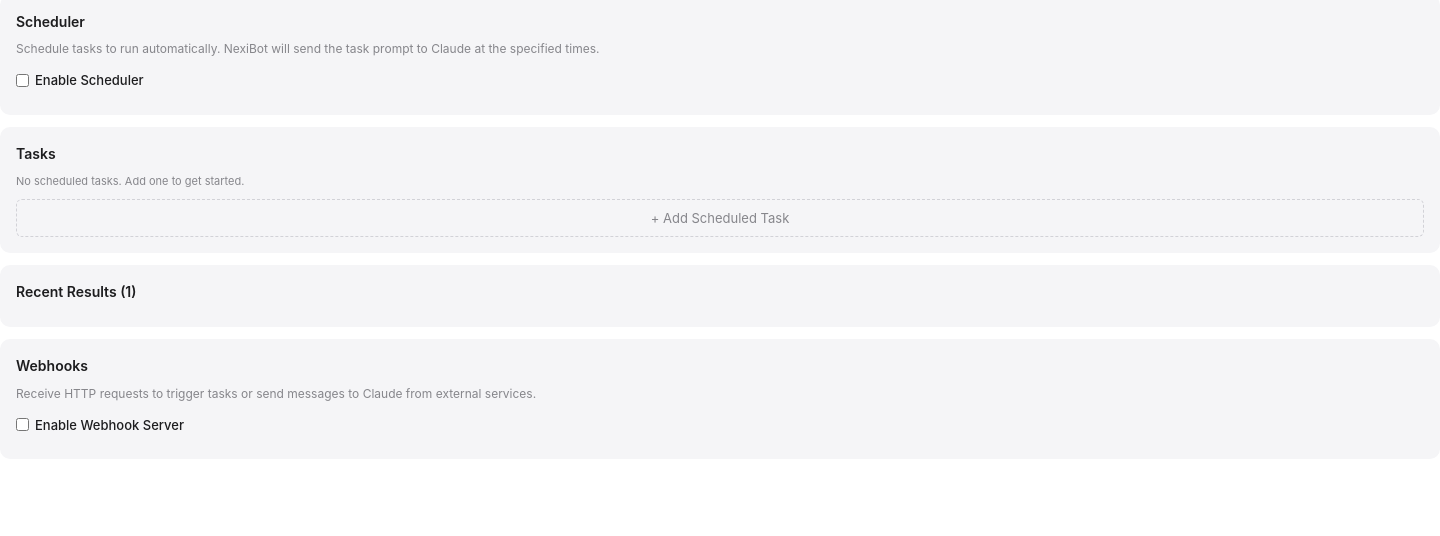
Test: Scheduler results › shows results section when schedulerResults has items and heading is clicked
Click to expand
Click the heading "Recent Results (1)" at (76, 292), box [16,283,136,300]
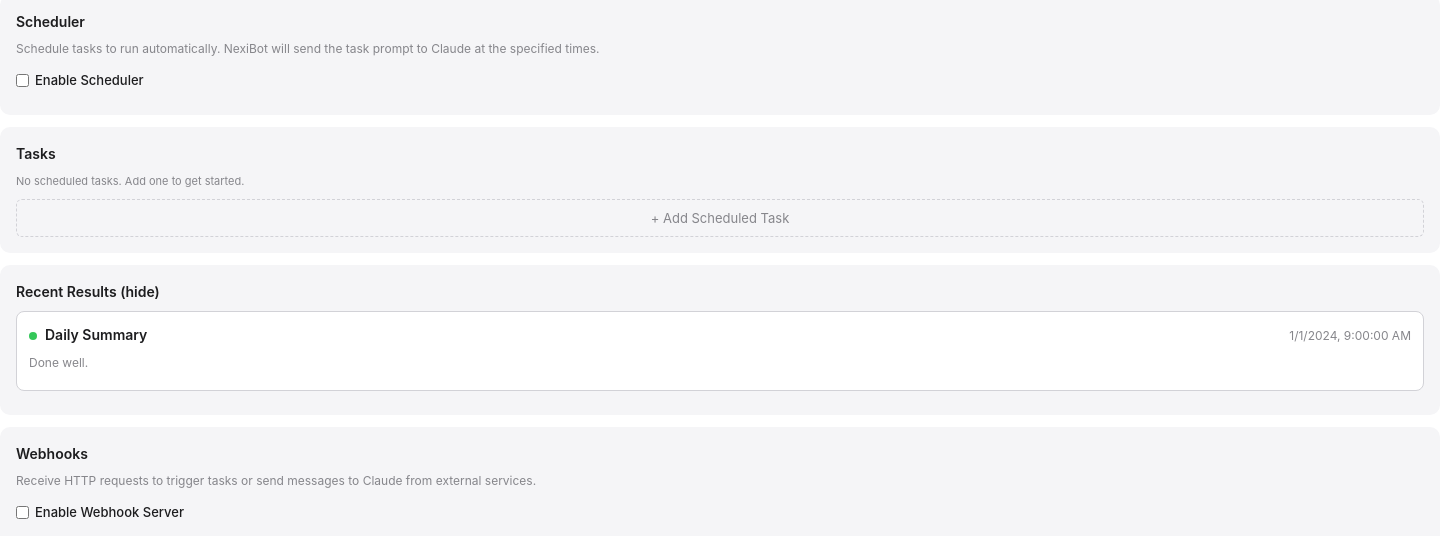
Expected: the text "Daily Summary" is shown, [45,324,147,347]
Expected: the text "Done well." is shown, [29,355,88,370]
